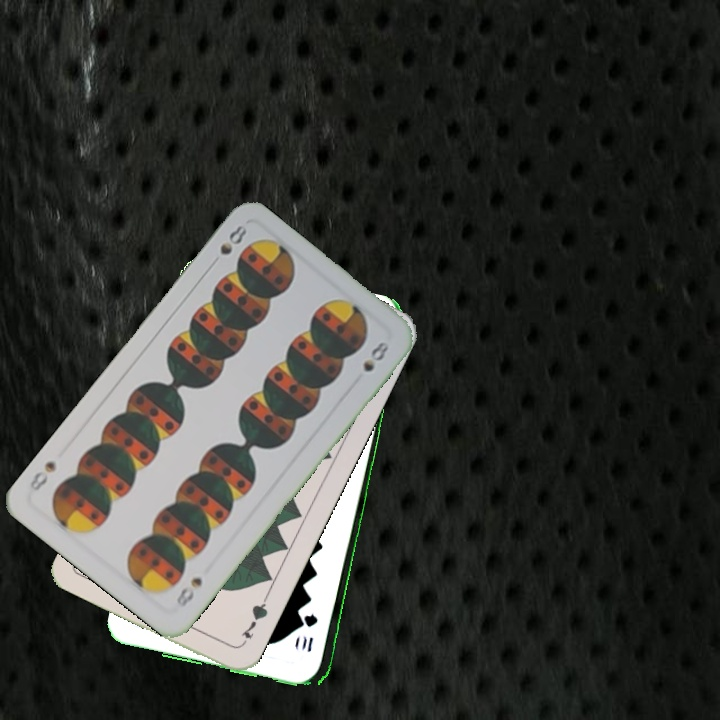G10: (303, 609, 321, 655)
G7: (237, 593, 271, 649)
S8: (215, 221, 250, 258), (172, 573, 205, 611)
